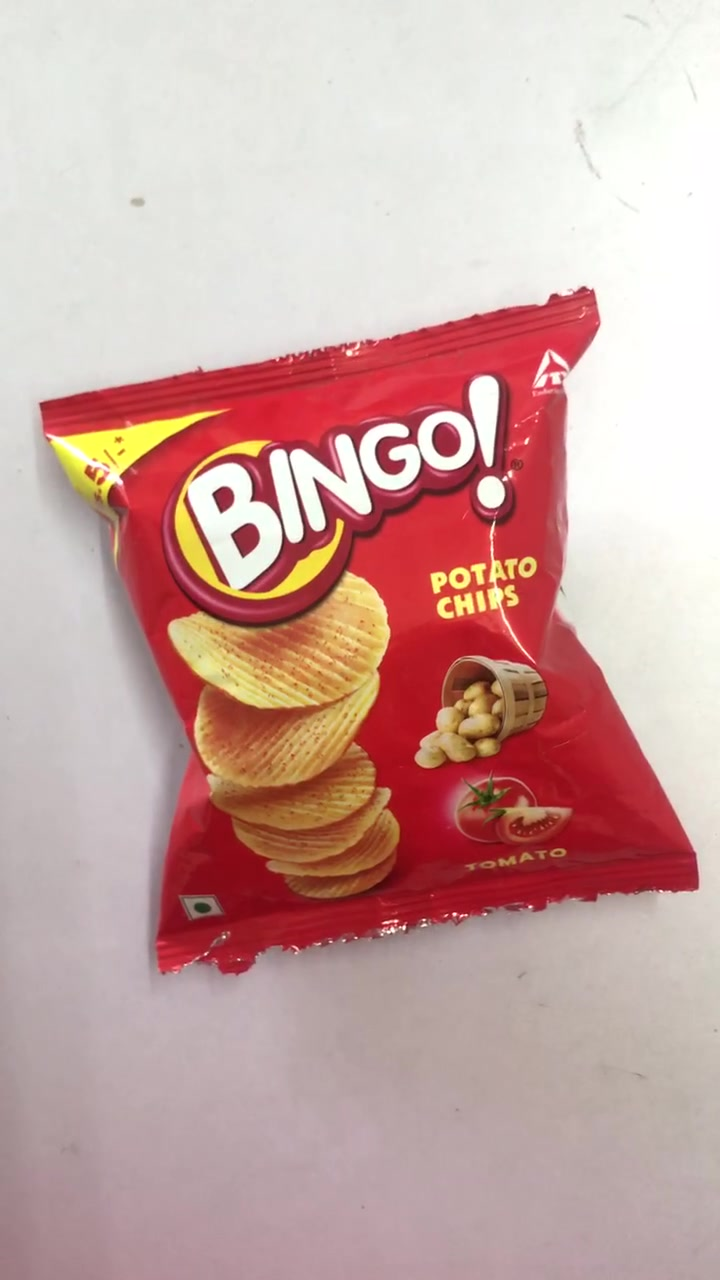Bingo: (46, 341, 694, 955)
